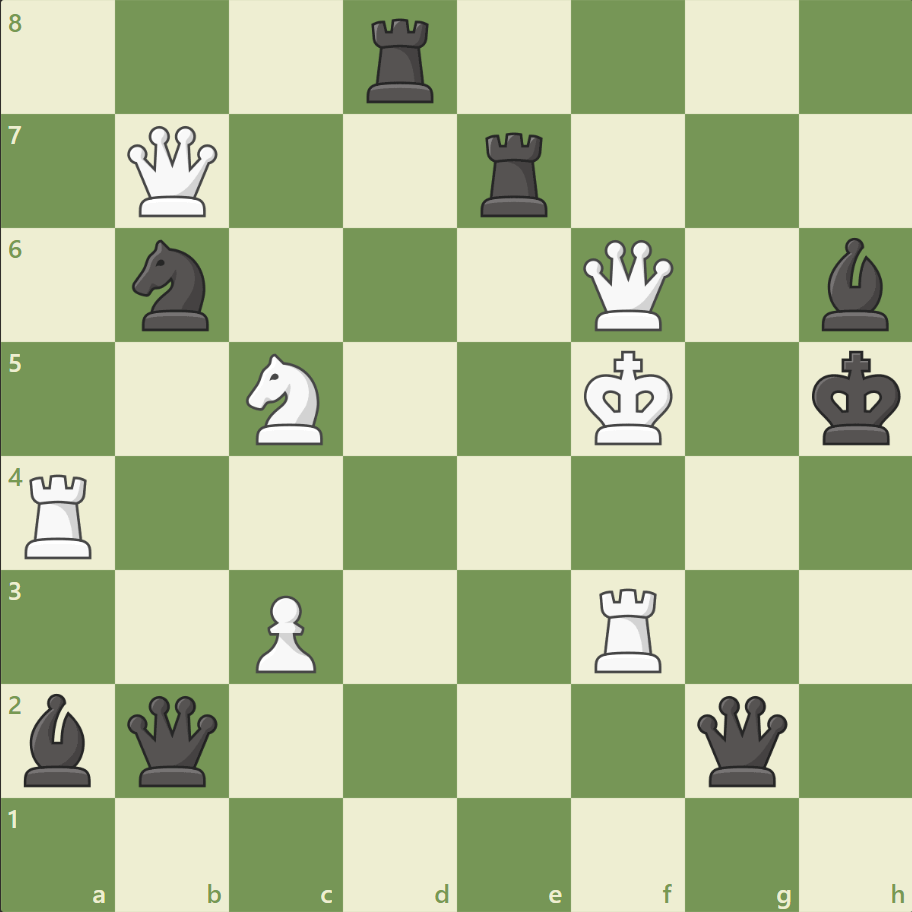K: (579, 344, 679, 452)
N: (238, 348, 335, 450)
P: (247, 586, 322, 677)
Q: (124, 122, 223, 222), (578, 236, 677, 335)
R: (19, 466, 102, 563), (587, 579, 670, 676)
b: (812, 233, 896, 336), (17, 687, 101, 790)
k: (806, 344, 906, 452)
n: (124, 234, 222, 337)
q: (124, 690, 223, 789), (691, 690, 790, 789)
r: (473, 125, 556, 222), (360, 12, 442, 109)
